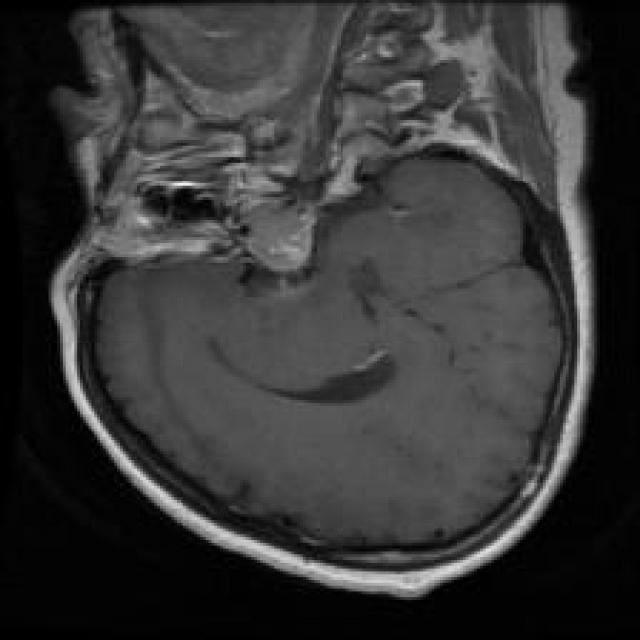pituitary_tumor: (226, 182, 336, 308)
